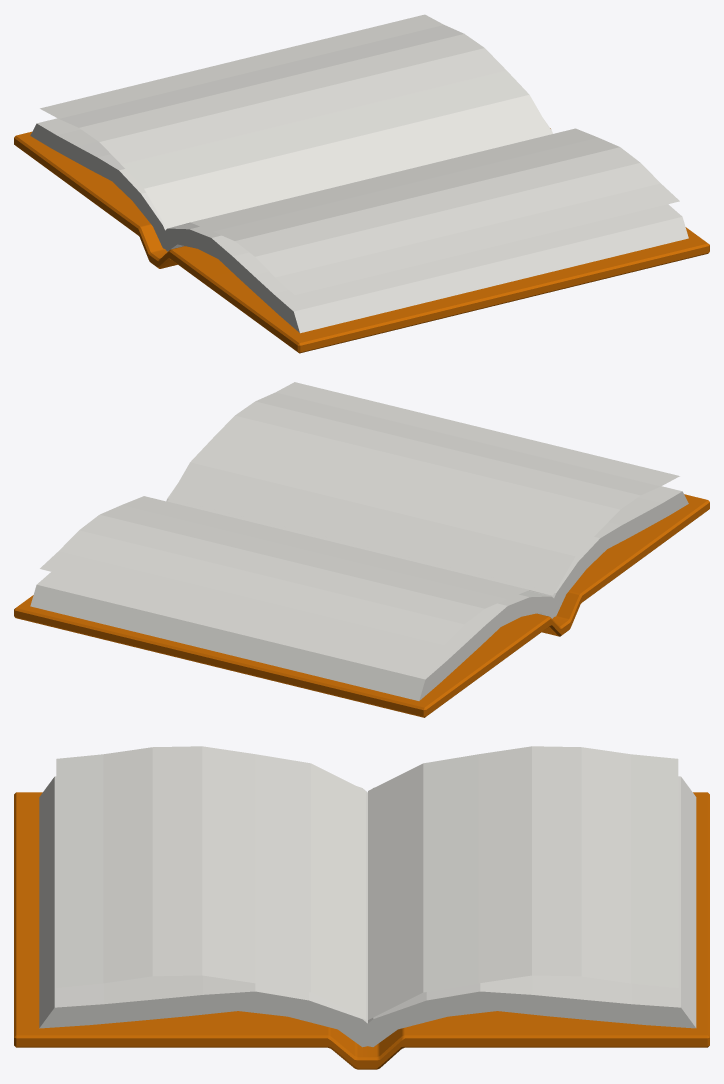
File: Book_Big.fbx
3 views of the same model, one above another, from view 1: azimuth 30°, elevation 25°; view 2: azimuth 150°, elevation 25°; view 3: azimuth 270°, elevation 25° (orthographic). The views are drawn at different scales.
Parts seen in each view (by area): view 1: Book_Big1; view 2: Book_Big1; view 3: Book_Big1.
Part boxes in pixels (bbox=[...]): Book_Big1: bbox=[14, 14, 709, 353]; Book_Big1: bbox=[14, 382, 709, 717]; Book_Big1: bbox=[14, 746, 709, 1069].
Bounding box in the file's own units: 5 × 0.8302 × 6.
